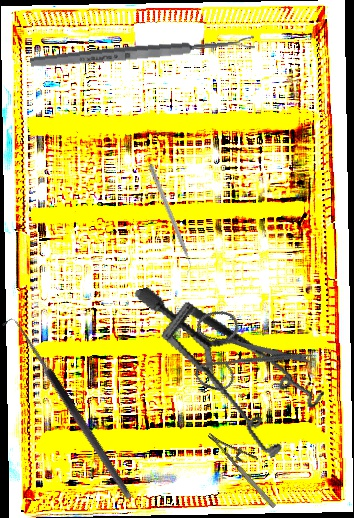Chopper: (142, 163, 196, 276)
Hook Surgical: (0, 314, 135, 506)
Iris Scissors: (170, 275, 321, 423)
Needle Holder: (207, 419, 289, 511)
Speculum: (132, 248, 338, 482)
Surgical Spoon: (29, 35, 256, 70)
